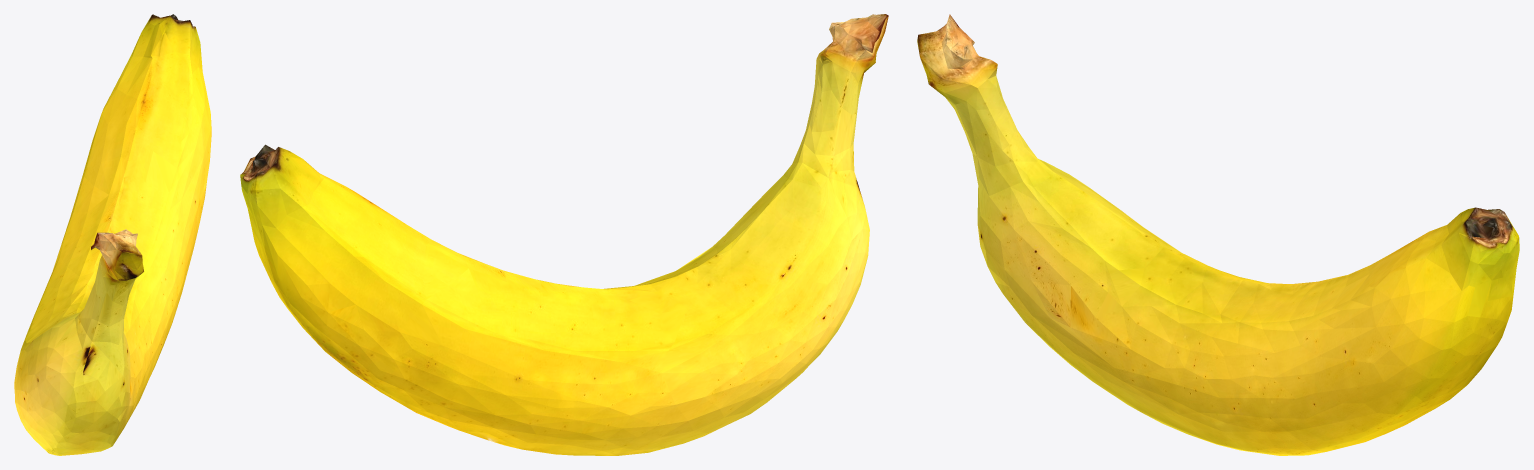
File: bananacp.glb
3 views of the same model, side by side, from view 1: azimuth 30°, elevation 25°; view 2: azimuth 150°, elevation 25°; view 3: azimuth 270°, elevation 25° (orthographic). The views are drawn at different scales.
Visible parts, largest first — view 1: Object_17; view 2: Object_17; view 3: Object_17.
Part boxes in pixels (x1=…): Object_17: x1=14, y1=14, x2=211, y2=455; Object_17: x1=240, y1=14, x2=888, y2=455; Object_17: x1=917, y1=14, x2=1519, y2=455.
Size of the model in its own units: 4.47 by 3.87 by 5.88.
1 material, 1 textured.
